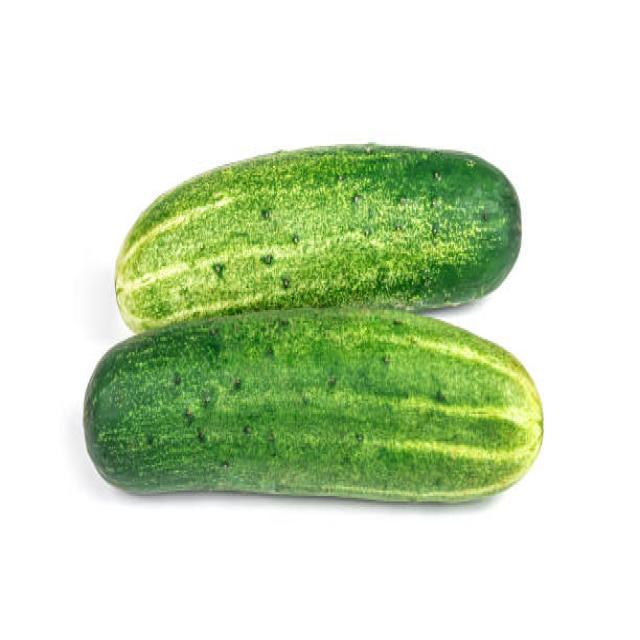cucumber: (83, 302, 542, 506), (115, 142, 523, 333)
